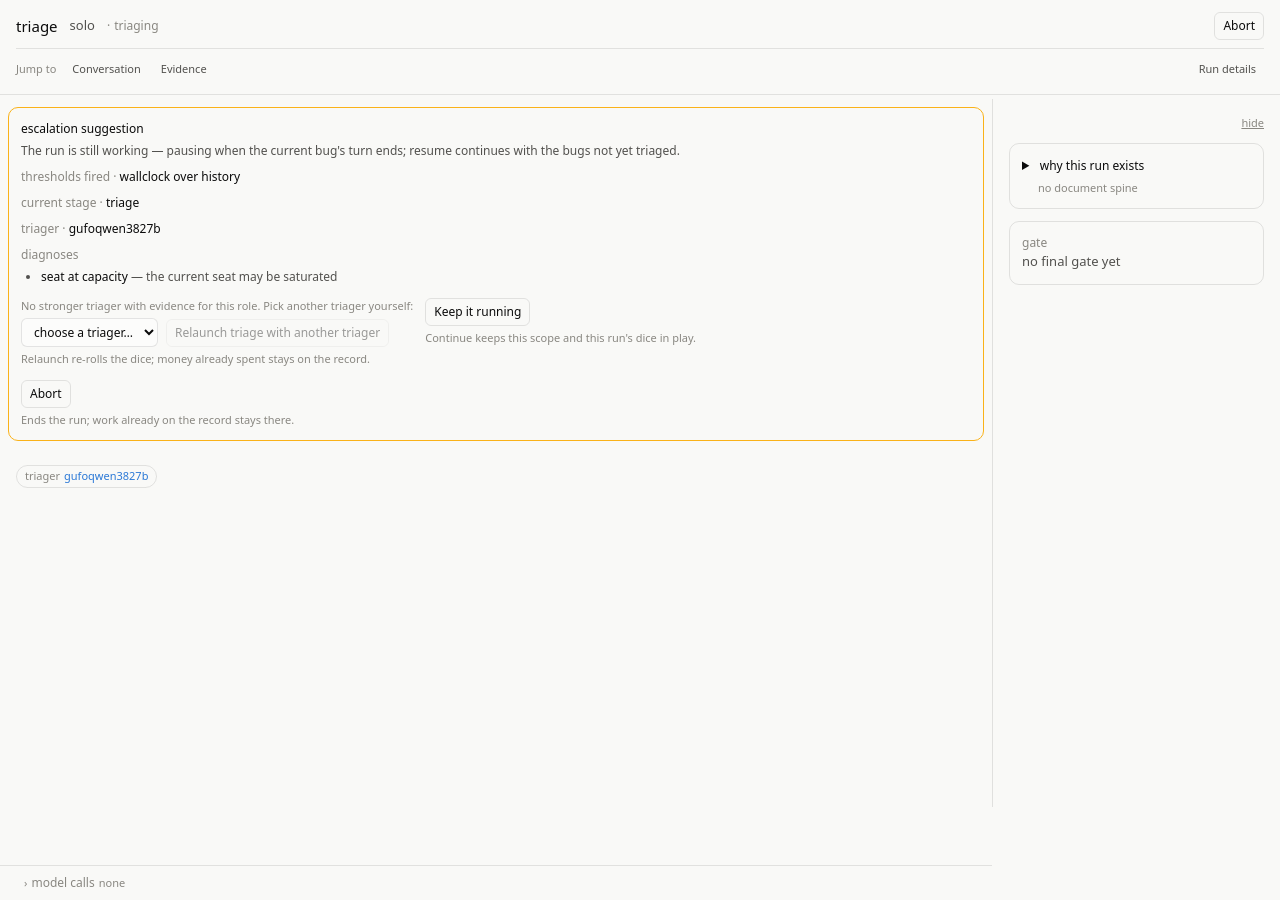
escalation card on a task-less run › relaunches a triage through the triage door with the picked triager, and keeps working runs unresumed
Expected: the element with test id "escalation-suggestion" does not show "The run paused", [8,106,984,441]
Select "pato-dos" in the dropdown with test id "escalation-seat-pick" at (90, 332), box [21,318,158,347]
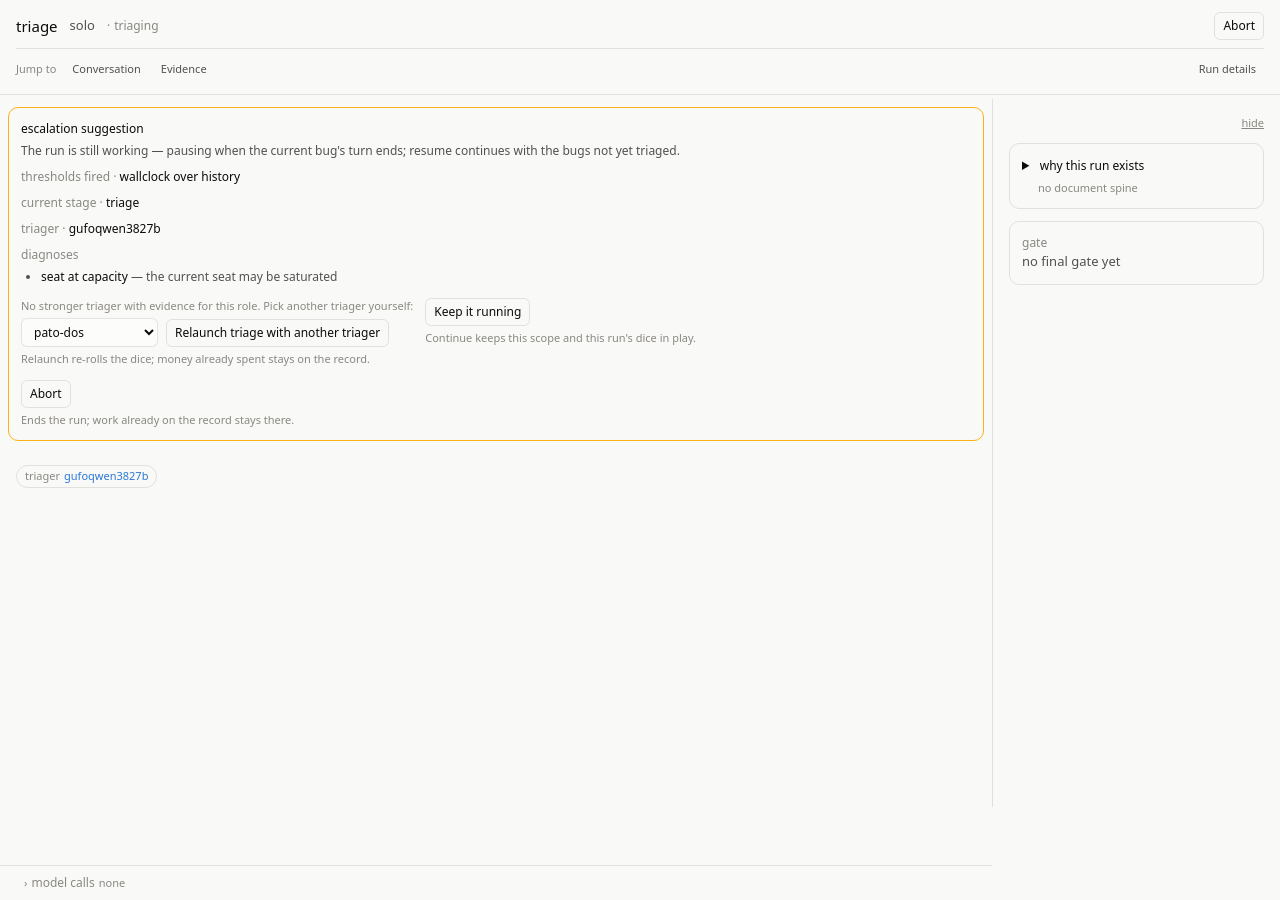
Click the button with test id "escalation-relaunch" at (278, 333), box [166,319,389,347]
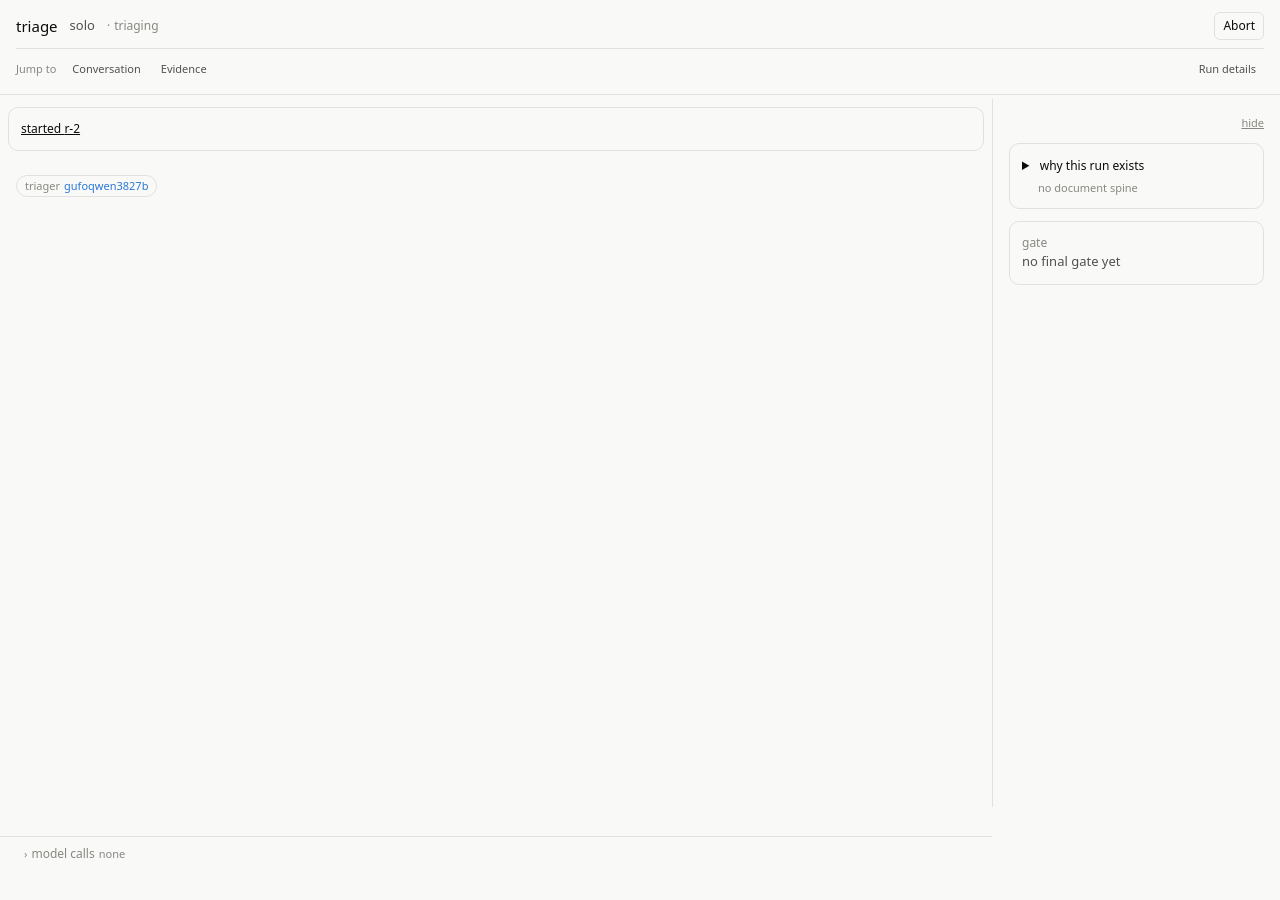
Now the link with test id "relaunch-link" shows "r-2", box [21,120,80,136]
